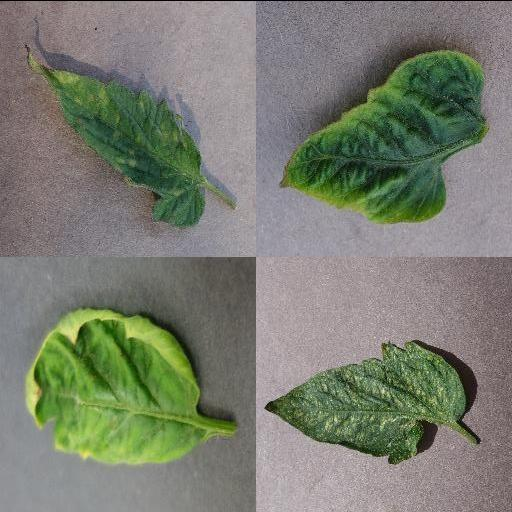Leaf Mold: (23, 50, 207, 227)
Spider Mites: (263, 340, 465, 464)
Yellow Leaf Curl Virus: (276, 50, 488, 222), (23, 306, 201, 466)
